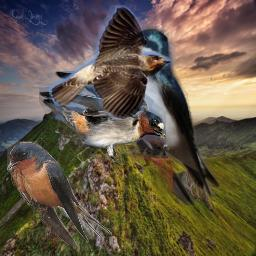Swallow: (110, 26, 221, 205), (49, 5, 175, 120), (39, 71, 166, 166), (7, 141, 112, 247)
